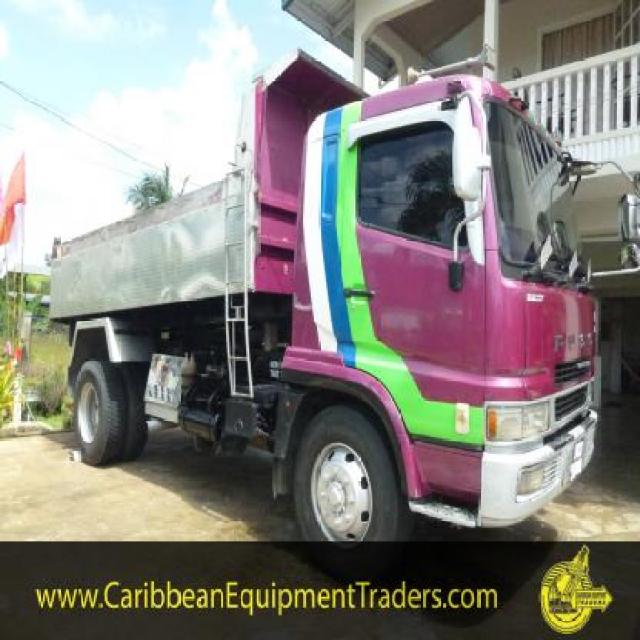truck: (48, 47, 639, 544)
